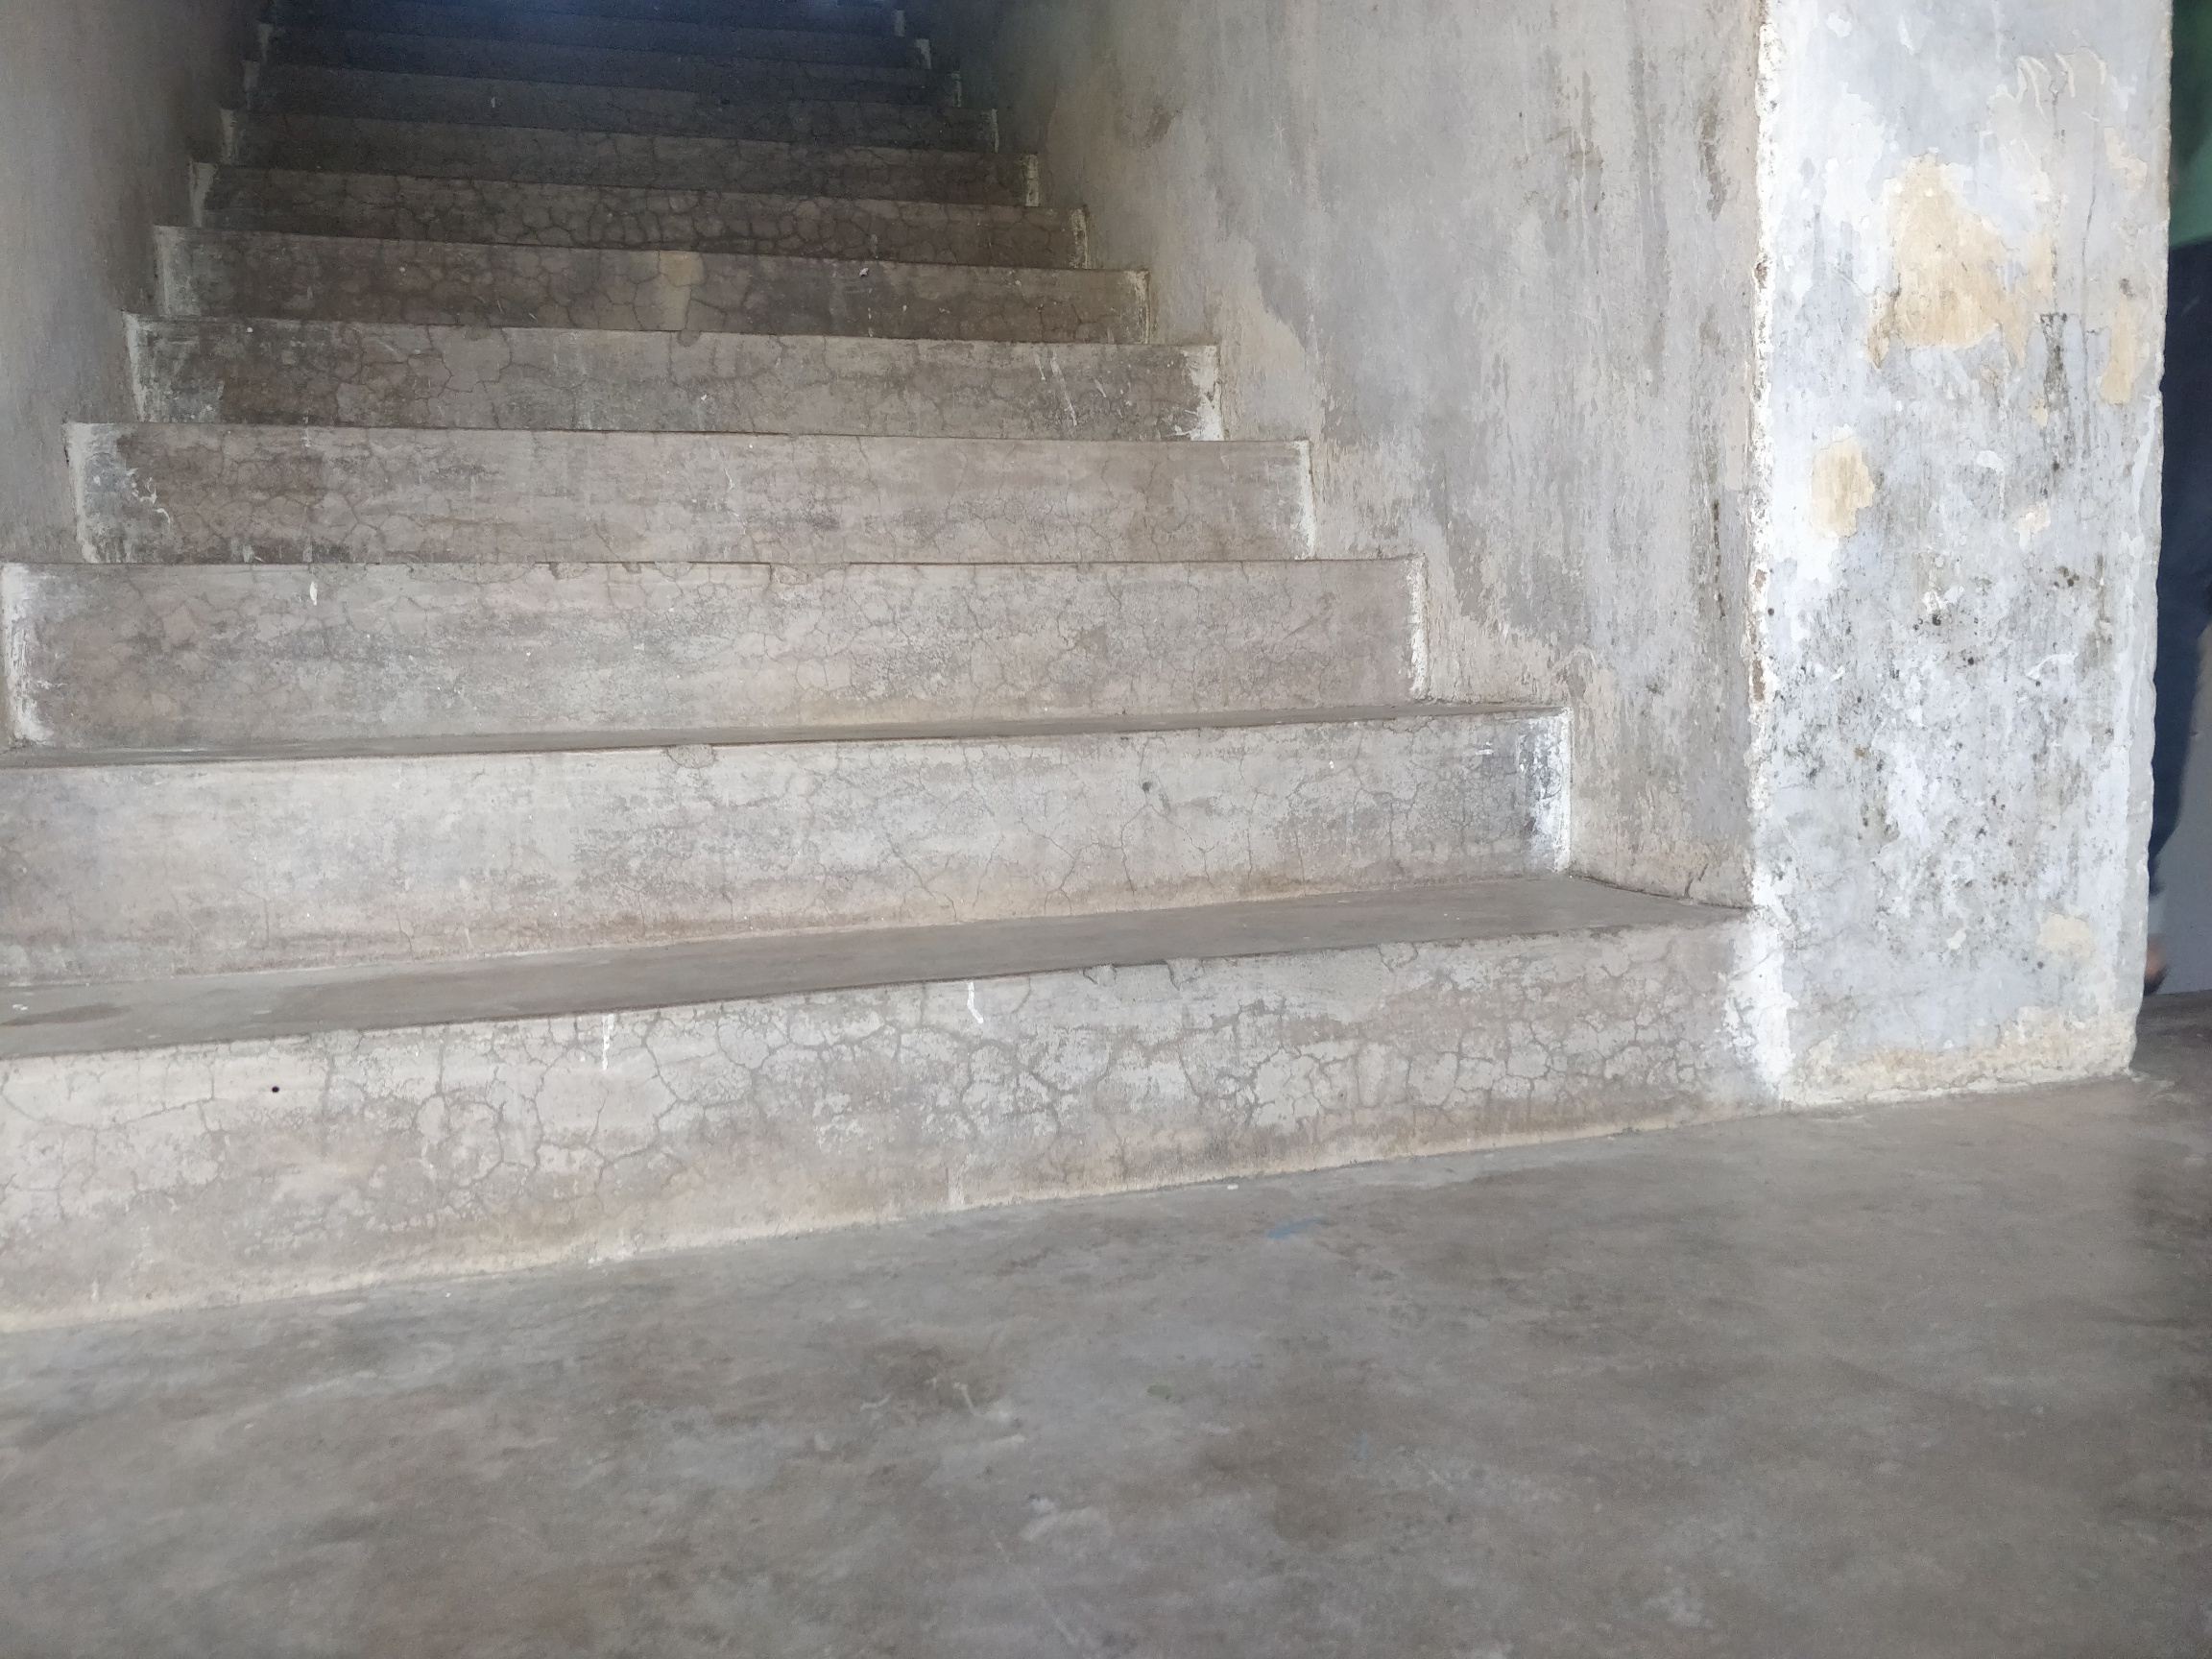stairs_up: (30, 7, 1730, 1216)
